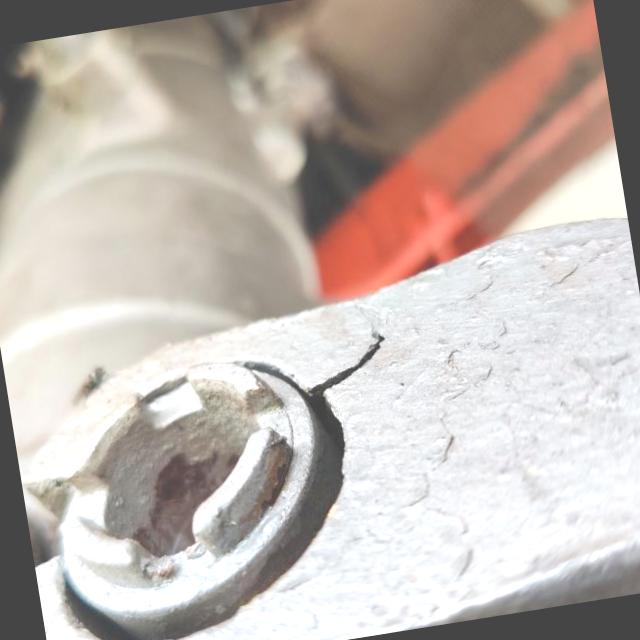crack: (286, 314, 408, 405)
